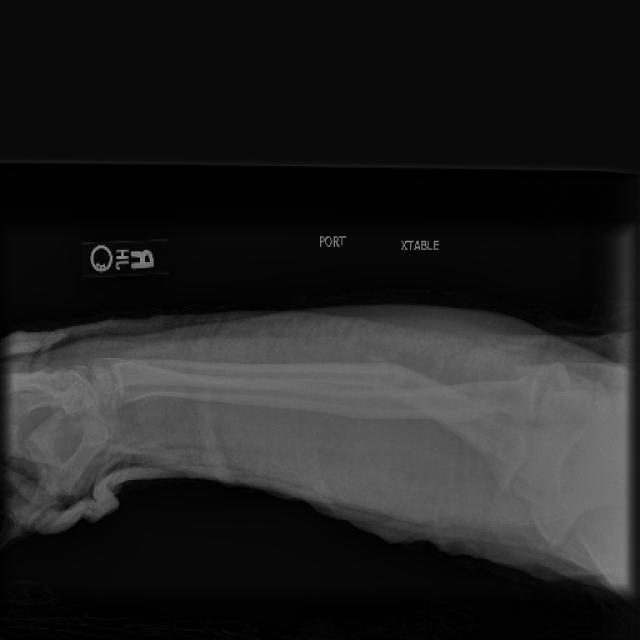forearm fracture: (348, 342, 439, 413)
